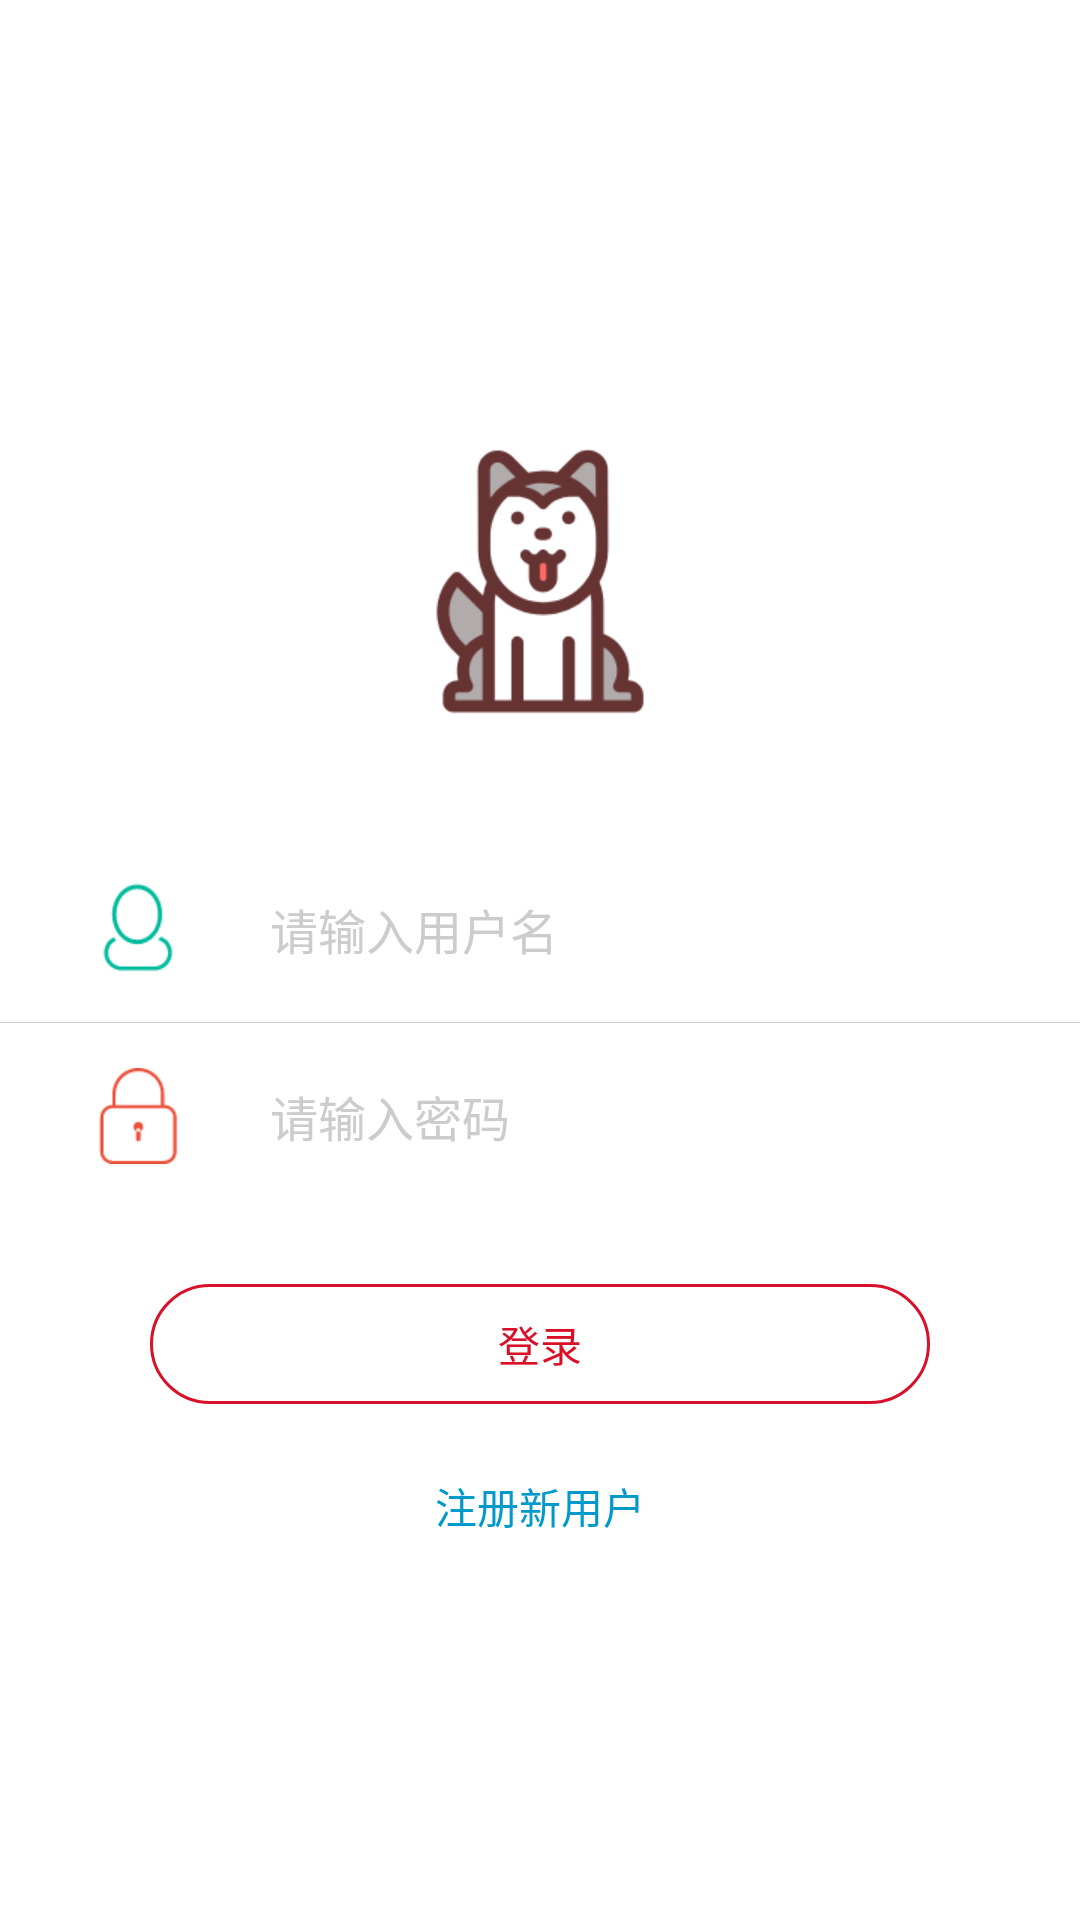

Point at icon controls on the screen. Image size 1080 × 1920, points as (x=x, y=y).
dog: (x=540, y=581)
